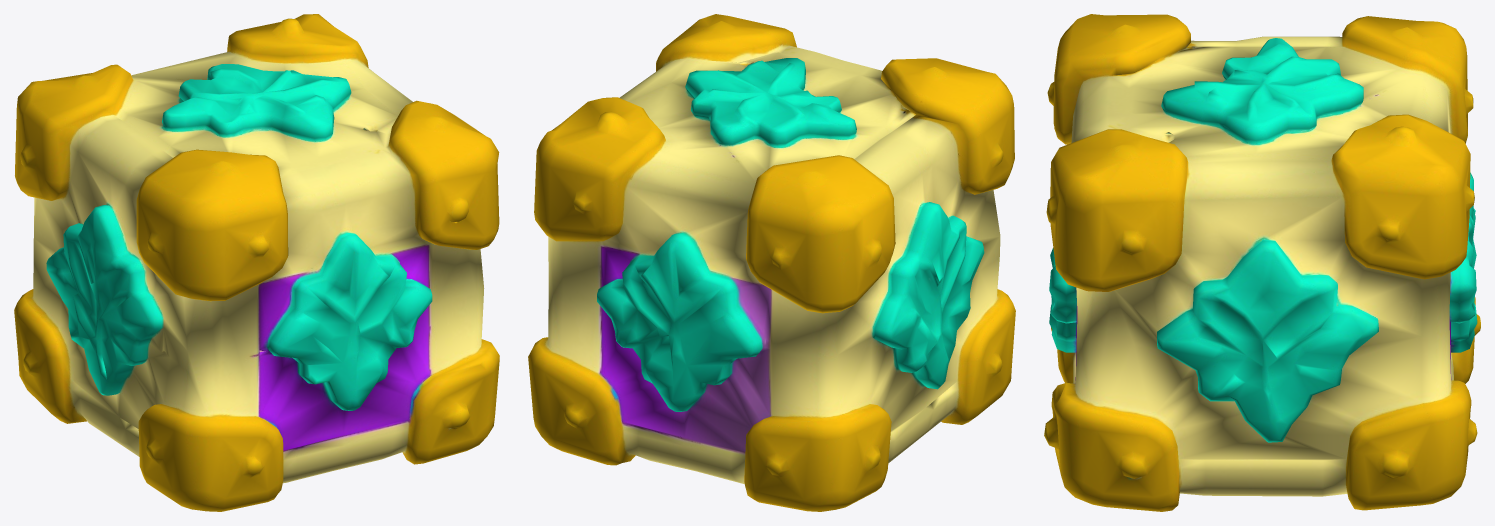
3 views of the same model, side by side, from view 1: azimuth 30°, elevation 25°; view 2: azimuth 150°, elevation 25°; view 3: azimuth 270°, elevation 25° (orthographic). The views are drawn at different scales.
Parts seen in each view (by area): view 1: tripo_node_abeac52d-839a-46a6-89c5-a16a2173d6ba; view 2: tripo_node_abeac52d-839a-46a6-89c5-a16a2173d6ba; view 3: tripo_node_abeac52d-839a-46a6-89c5-a16a2173d6ba.
Boxes of the visible parts, x1,y1,x2,y2 form: tripo_node_abeac52d-839a-46a6-89c5-a16a2173d6ba: (14,14,499,511); tripo_node_abeac52d-839a-46a6-89c5-a16a2173d6ba: (528,14,1015,511); tripo_node_abeac52d-839a-46a6-89c5-a16a2173d6ba: (1044,14,1480,511).
Size of the model in its own units: 0.9499 by 0.9155 by 0.9767.
Materials: 1 (1 with a texture image).
